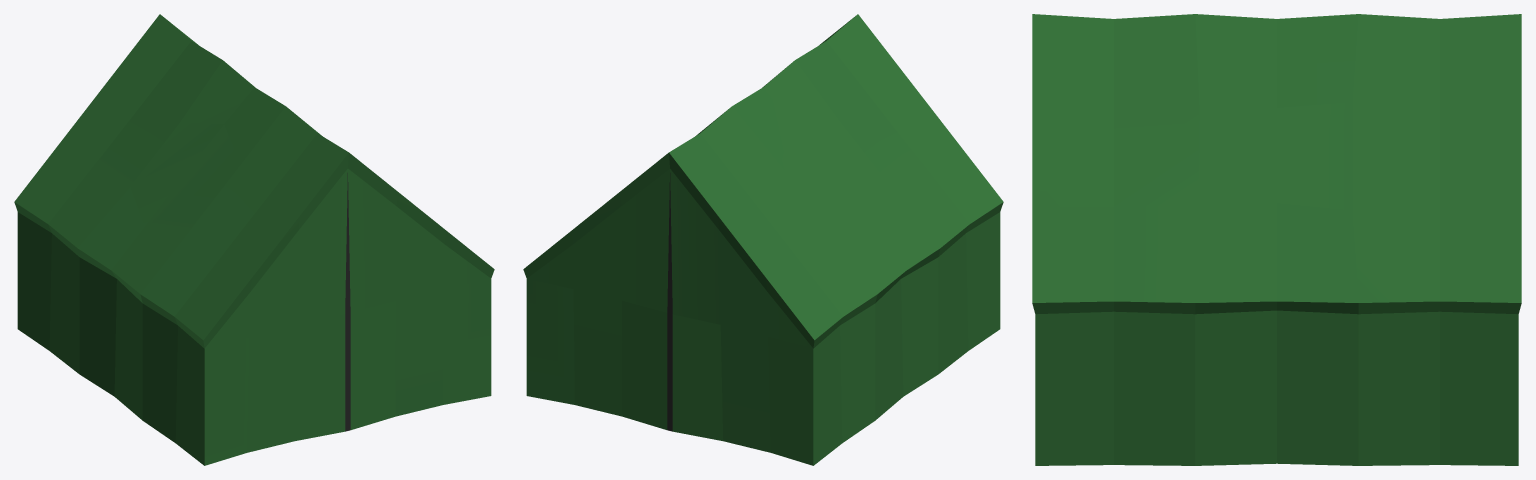
File: ww2_tent-war.fbx
3 renders of one model, left to right at view 1: azimuth 30°, elevation 25°; view 2: azimuth 150°, elevation 25°; view 3: azimuth 270°, elevation 25°, orthographic. The views are drawn at different scales.
Parts seen in each view (by area): view 1: ww2_tent_war; view 2: ww2_tent_war; view 3: ww2_tent_war.
Boxes of the visible parts, x1,y1,x2,y2 form: ww2_tent_war: (14, 14, 494, 465); ww2_tent_war: (523, 14, 1003, 465); ww2_tent_war: (1032, 14, 1521, 465).
Bounding box in the file's own units: 178 × 163 × 200.
